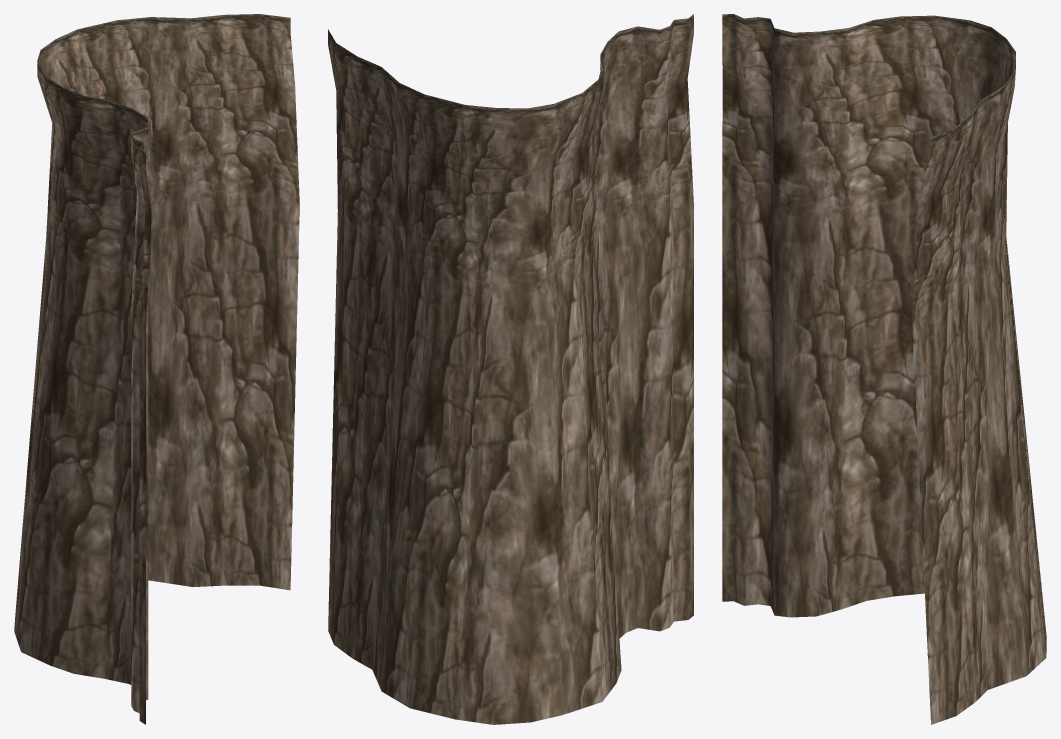
File: OVERHILL_A_01_OBJECT24.fbx
3 renders of one model, left to right at view 1: azimuth 30°, elevation 25°; view 2: azimuth 150°, elevation 25°; view 3: azimuth 270°, elevation 25°, orthographic. The views are drawn at different scales.
Parts seen in each view (by area): view 1: OVERHILL_A_01_OBJECT24; view 2: OVERHILL_A_01_OBJECT24; view 3: OVERHILL_A_01_OBJECT24.
Boxes of the visible parts, box(x1,y1,x2,y2) form: OVERHILL_A_01_OBJECT24: box(14, 14, 299, 724); OVERHILL_A_01_OBJECT24: box(328, 14, 693, 724); OVERHILL_A_01_OBJECT24: box(722, 14, 1046, 724).
Bounding box in the file's own units: 124848 × 257530 × 128805.
2 materials, 2 textured.
